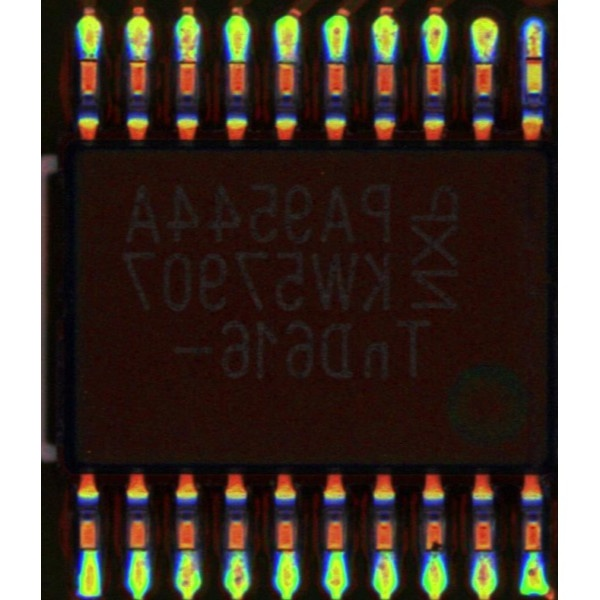Bad_podu: (526, 44, 541, 70), (180, 50, 193, 72)
